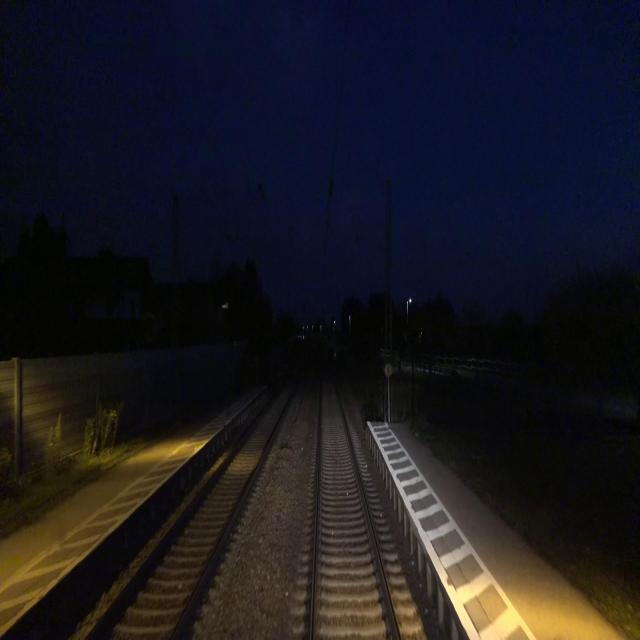rail-track: (92, 363, 304, 639), (315, 360, 397, 639)
